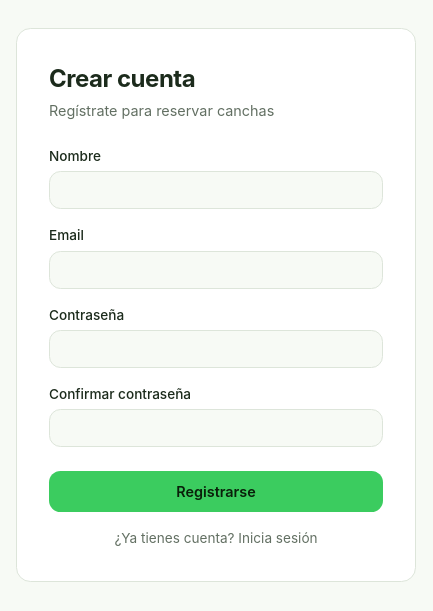
it: RegisterPage › shows fallback error on failure without message
In the field labelled "Nombre": (216, 190) [49,171,383,209], type "Test"
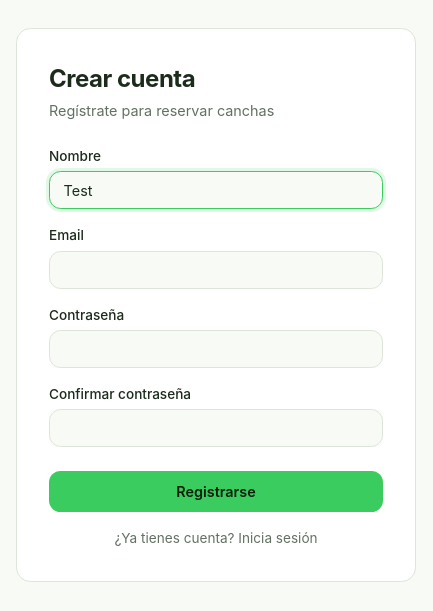
In the field labelled "Email": (216, 270) [49,250,383,289], type "test@test.com"
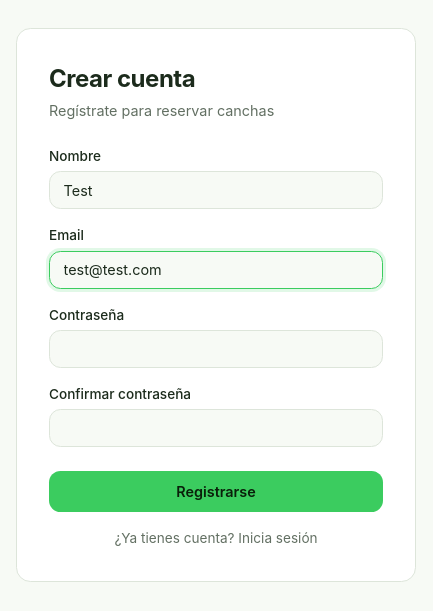
In the password field labelled "Contraseña": (216, 349) [49,330,383,368], type "pass123"
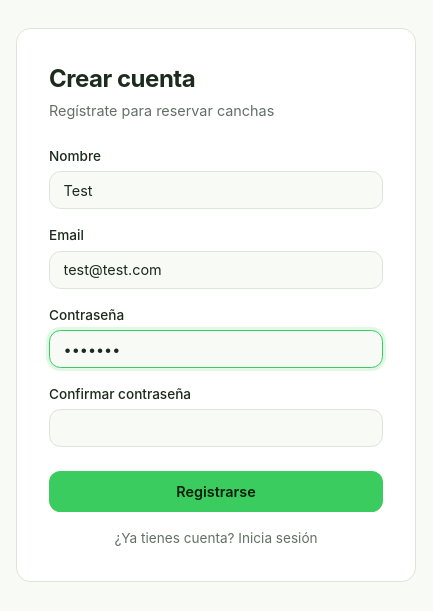
In the password field labelled "Confirmar contraseña": (216, 428) [49,409,383,448], type "pass123"
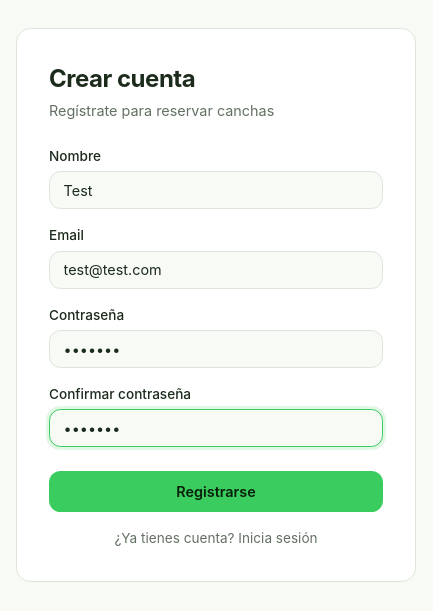
Click the button "Registrarse": (216, 492) [49,472,383,512]
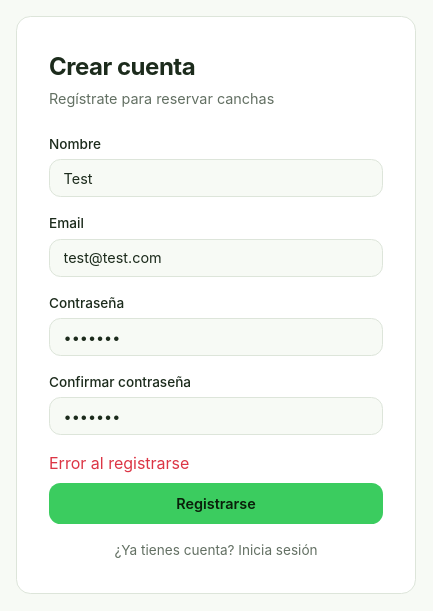
Expected: the text "Error al registrarse" is shown, [49,454,189,474]
